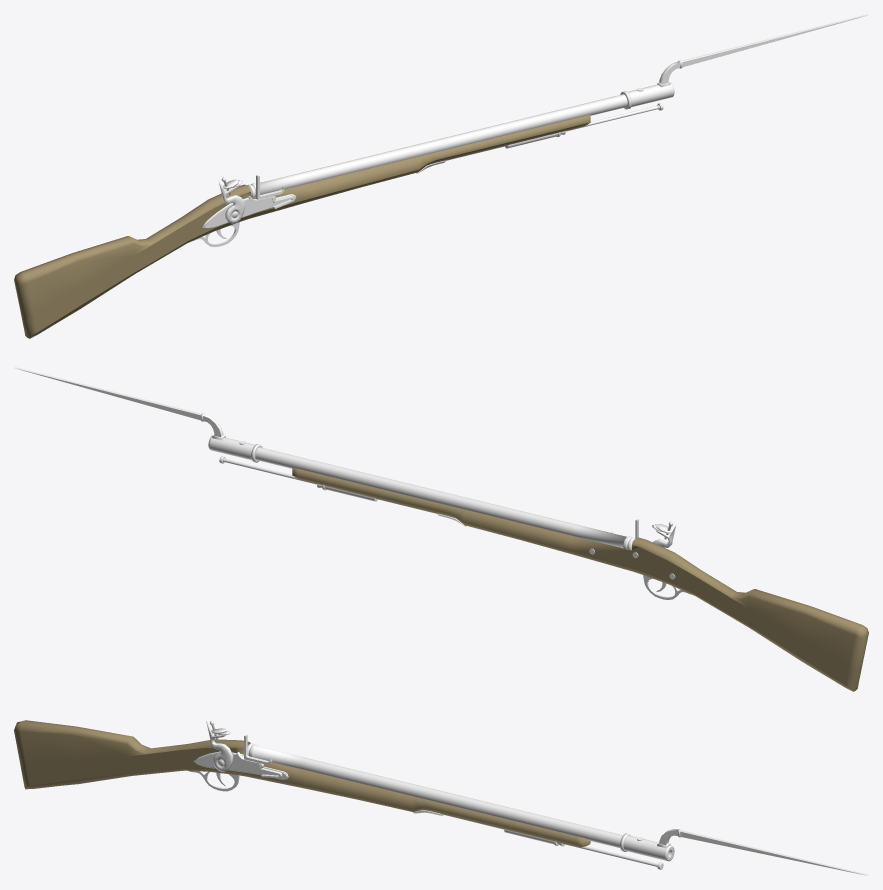
File: musket test.FBX
3 views of the same model, one above another, from view 1: azimuth 30°, elevation 25°; view 2: azimuth 150°, elevation 25°; view 3: azimuth 330°, elevation 25° (orthographic).
Visible parts, largest first — view 1: Box001, Cylinder001, Group001, Plane003; view 2: Box001, Cylinder001, Group001; view 3: Box001, Cylinder001, Group001, Plane003, Cylinder007, Cylinder004.
Boxes of the visible parts, x1,y1,x2,y2 form: Box001: (14,114,590,338); Cylinder001: (247,94,627,197); Group001: (620,14,868,109); Plane003: (201,194,296,228); Box001: (292,467,868,691); Cylinder001: (255,447,635,550); Group001: (14,367,262,462); Box001: (14,720,590,847); Cylinder001: (247,743,673,859); Group001: (620,829,868,875); Plane003: (193,751,288,779); Cylinder007: (206,721,233,771); Cylinder004: (441,814,663,869).
Size of the model in its own units: 192 by 25.45 by 5.15.
